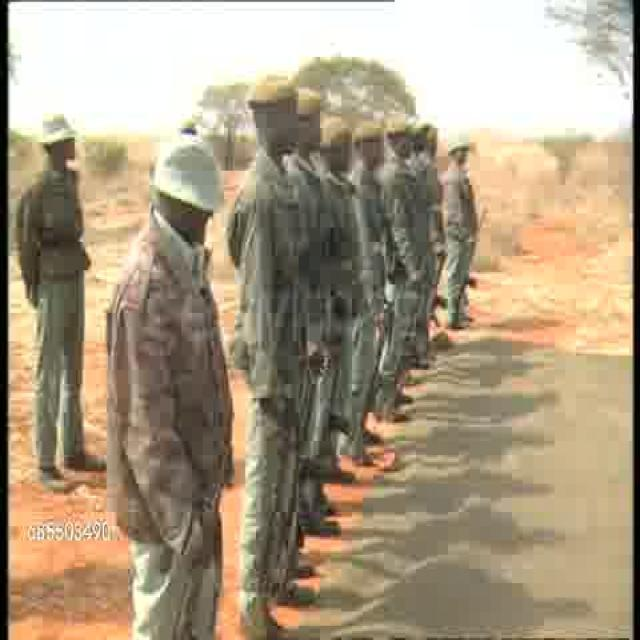poacher: (105, 128, 231, 610), (229, 69, 304, 603), (9, 100, 111, 490), (318, 112, 362, 466), (298, 87, 330, 462), (354, 115, 390, 428), (436, 126, 488, 324)
